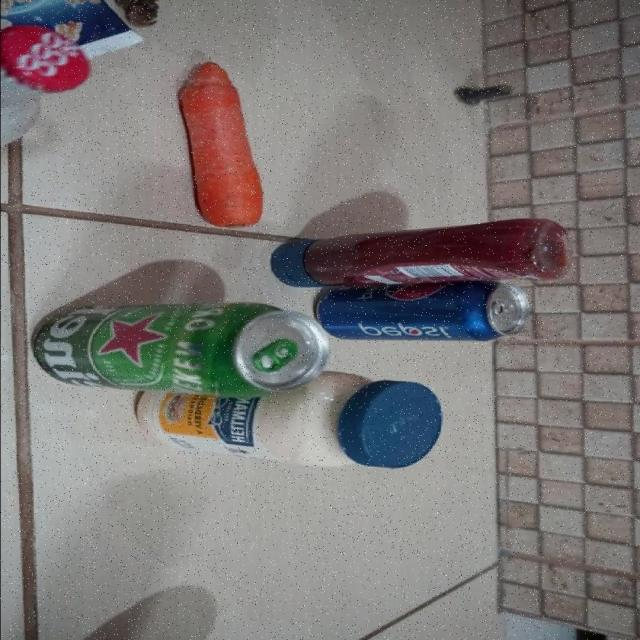Banana: (114, 0, 166, 27)
BeerCan: (33, 302, 330, 398)
Carrot: (175, 60, 264, 229)
CoconutMilk: (0, 25, 92, 150)
Ketchup: (271, 218, 575, 290)
Mayonnaise: (133, 369, 443, 467)
Popcorn: (0, 0, 143, 60)
SodaCan: (311, 279, 531, 342)
